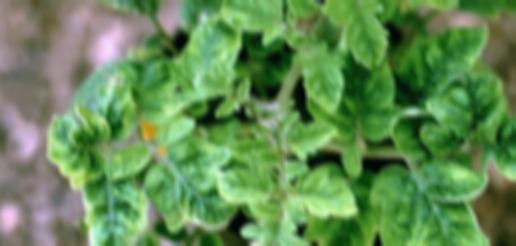Tomato leaf yellow virus: (130, 137, 235, 242), (383, 157, 496, 246), (396, 24, 496, 117), (61, 166, 157, 246), (321, 0, 393, 75), (175, 13, 243, 88), (283, 165, 359, 230), (210, 159, 285, 213), (216, 0, 294, 47)
